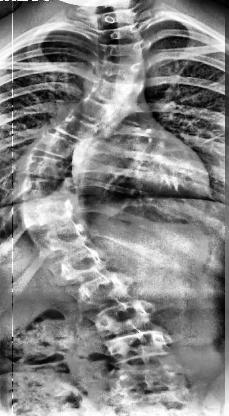Vertebrae: (65, 272, 134, 312), (44, 243, 106, 287), (102, 328, 171, 366), (27, 216, 88, 258), (92, 298, 152, 340), (30, 129, 86, 165), (70, 95, 128, 129), (21, 195, 77, 228), (18, 172, 72, 206), (22, 150, 78, 180), (50, 112, 100, 145), (86, 77, 138, 107), (97, 58, 150, 86), (92, 22, 140, 46), (97, 39, 145, 63)
